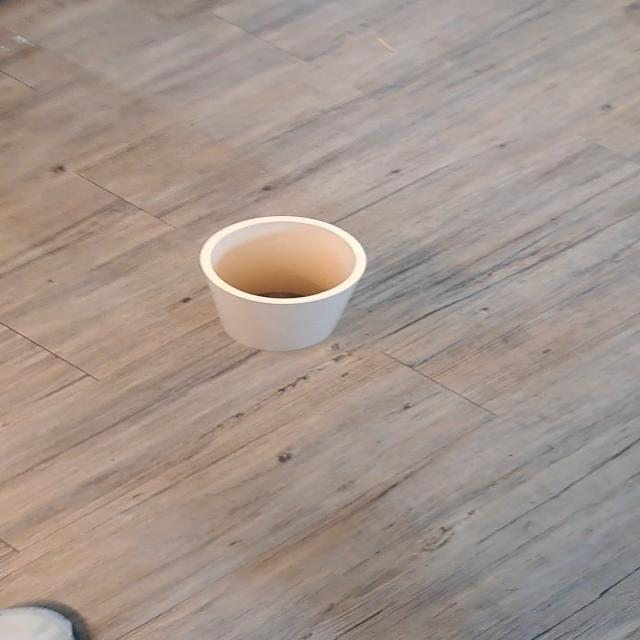CORAL: (185, 212, 398, 354)
